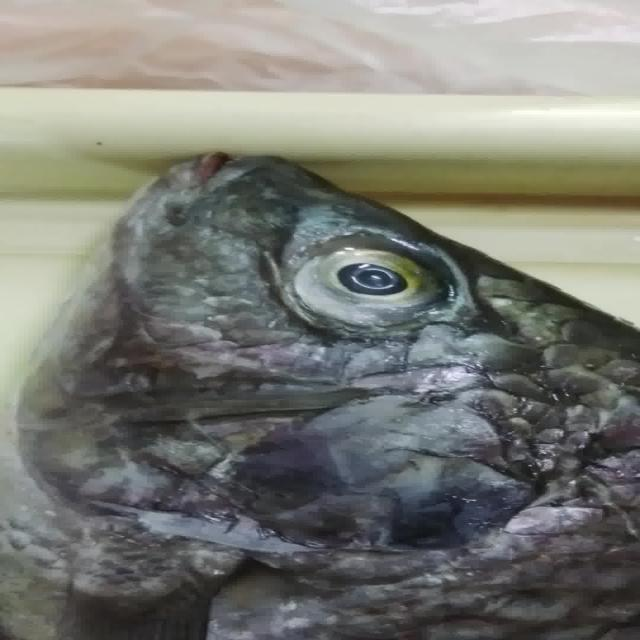Non-Fresh: (237, 208, 488, 363)
